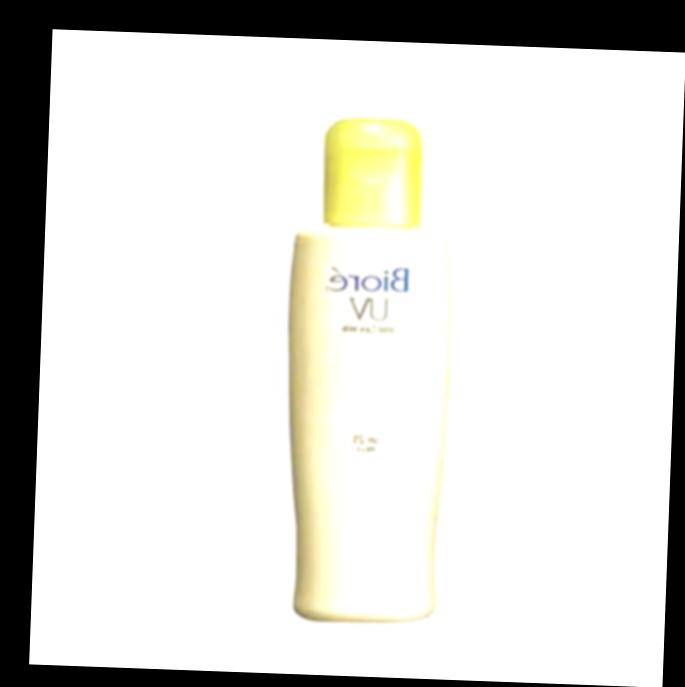cosmetic: (277, 110, 459, 625)
